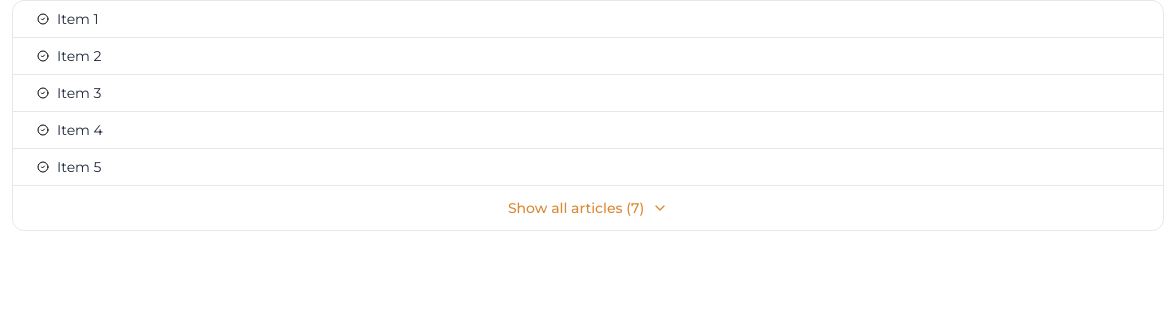
Test: SupportList Component › collapses back to 5 items after clicking "Show Less"
Click the button "Show all articles (7)": (588, 208) [13, 186, 1163, 230]
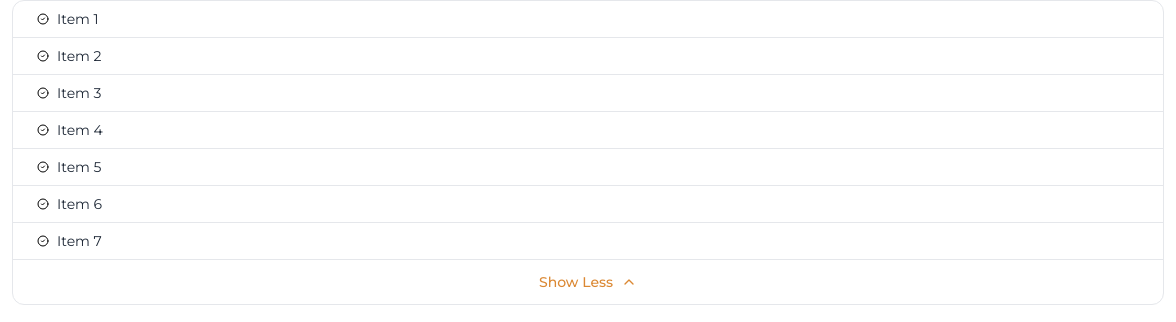
Click the button "Show Less": (588, 282) [13, 260, 1163, 304]
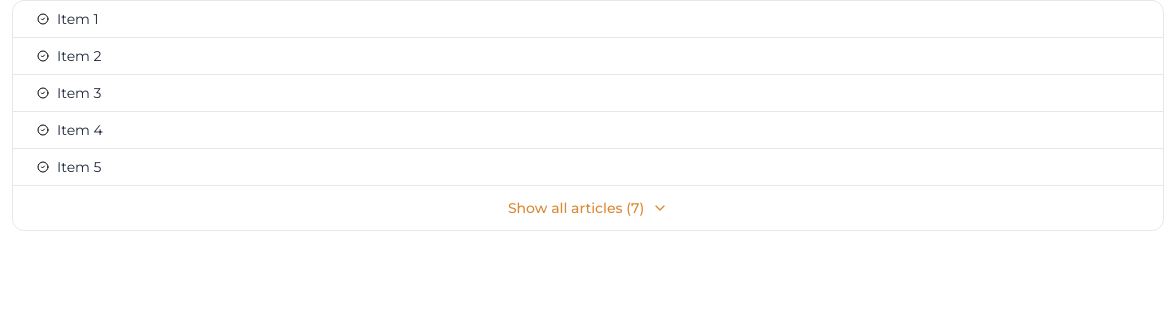
Expected: the text "Item 6" is gone
Expected: the text "Item 7" is gone
